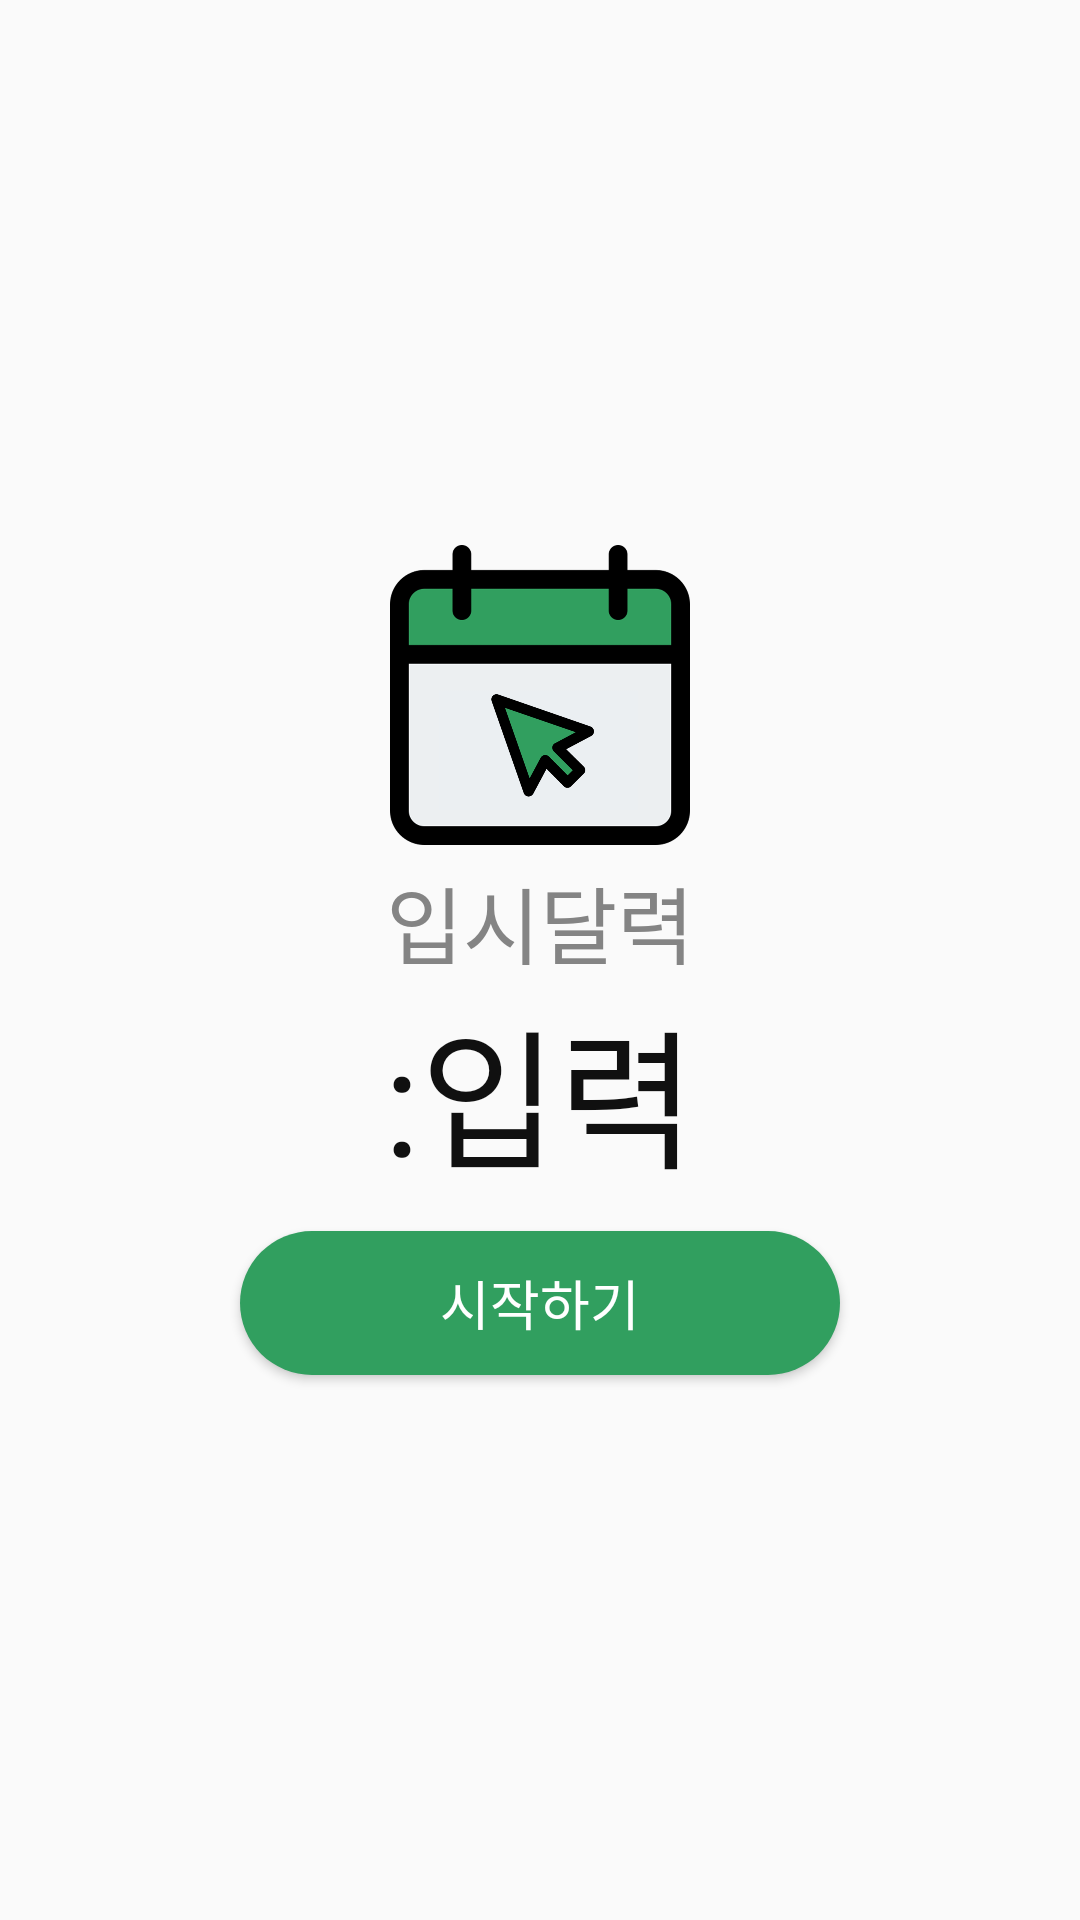

Icons on this 1080w x 1920h Android screen, each with the point to tap as (x=x, y=y):
appicon: (x=540, y=695)
